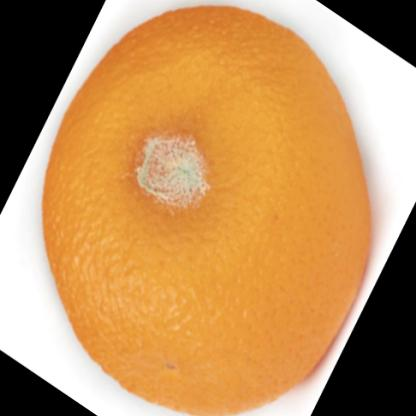rotten: (44, 4, 370, 416)
